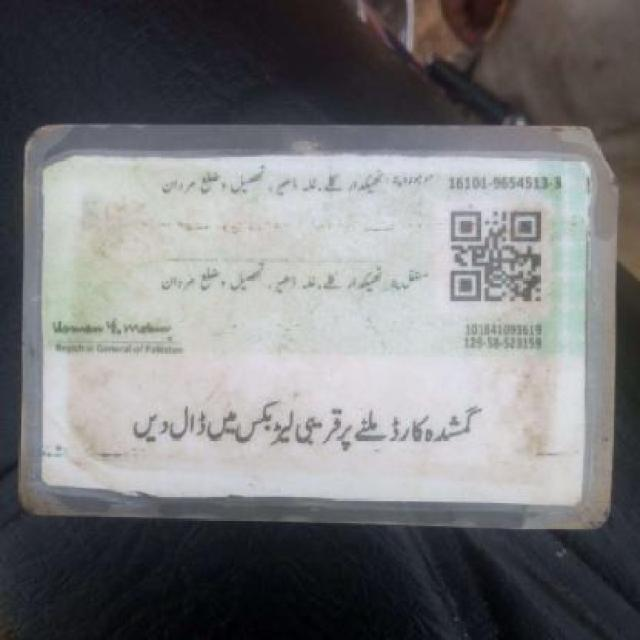Back: (32, 144, 602, 518)
